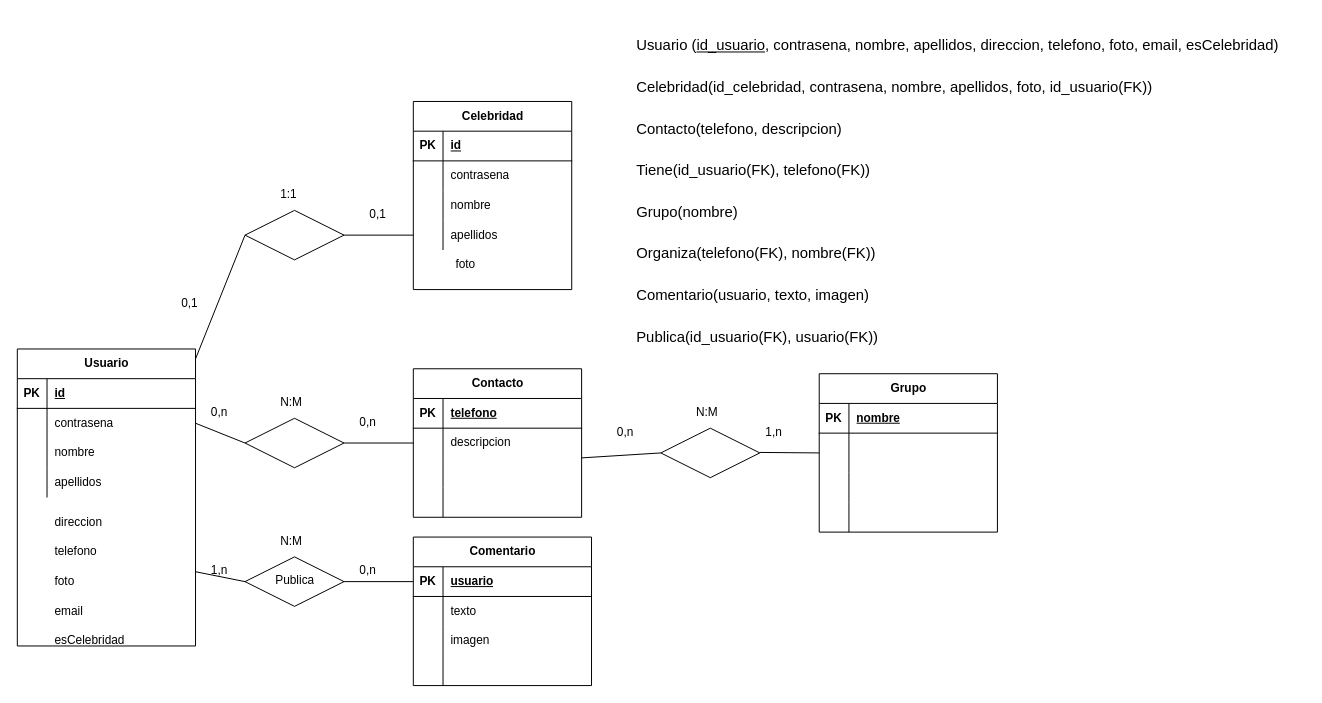
This 1322x703 diagram has some shape labels left out. The shapes that lost their labels are listed below. From the top down, each one's centre as x and y in pixels, then its label:
At (x=294, y=234): "Es".
At (x=294, y=442): "Tiene".
At (x=710, y=452): "Organiza".
